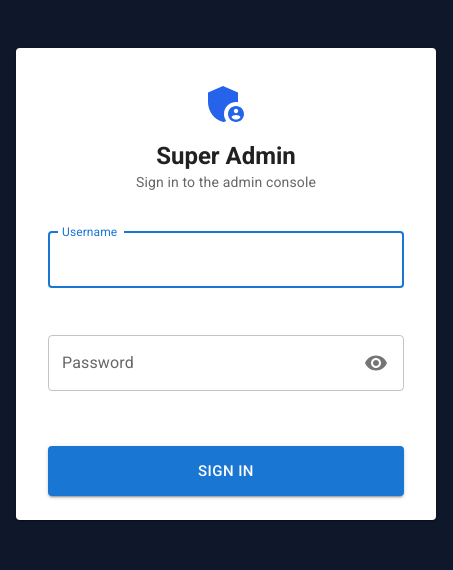
AdminLogin › shows error for invalid credentials
The width and height of the screenshot is (453, 570).
Type "wrong" into the field named "username" at (226, 260), box [48,232,404,288]
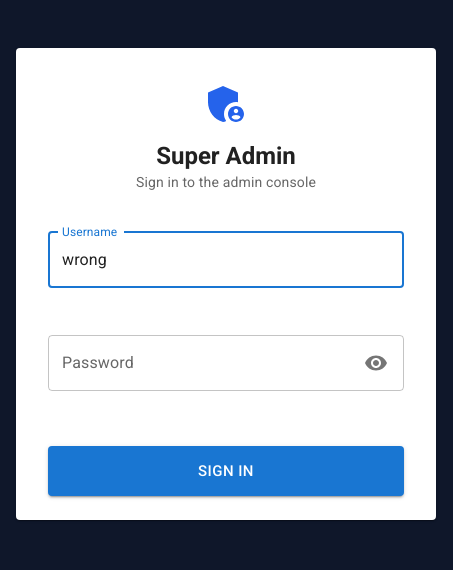
Type "wrong" into the password field named "password" at (200, 363), box [48,335,351,391]
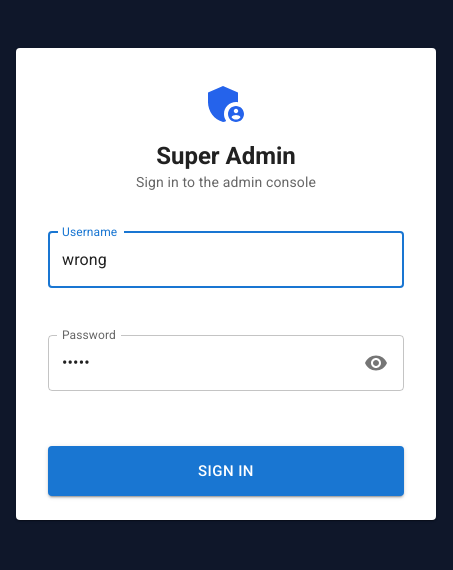
Click the button "Sign In" at (226, 471), box [48,446,404,496]
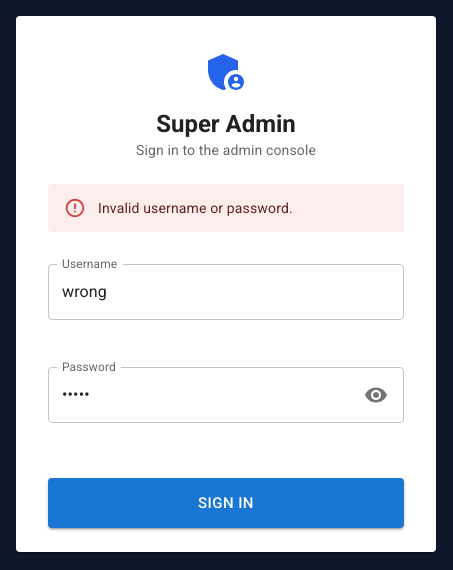
Result: the text "Invalid username or password." is shown at [98,200,293,216]
